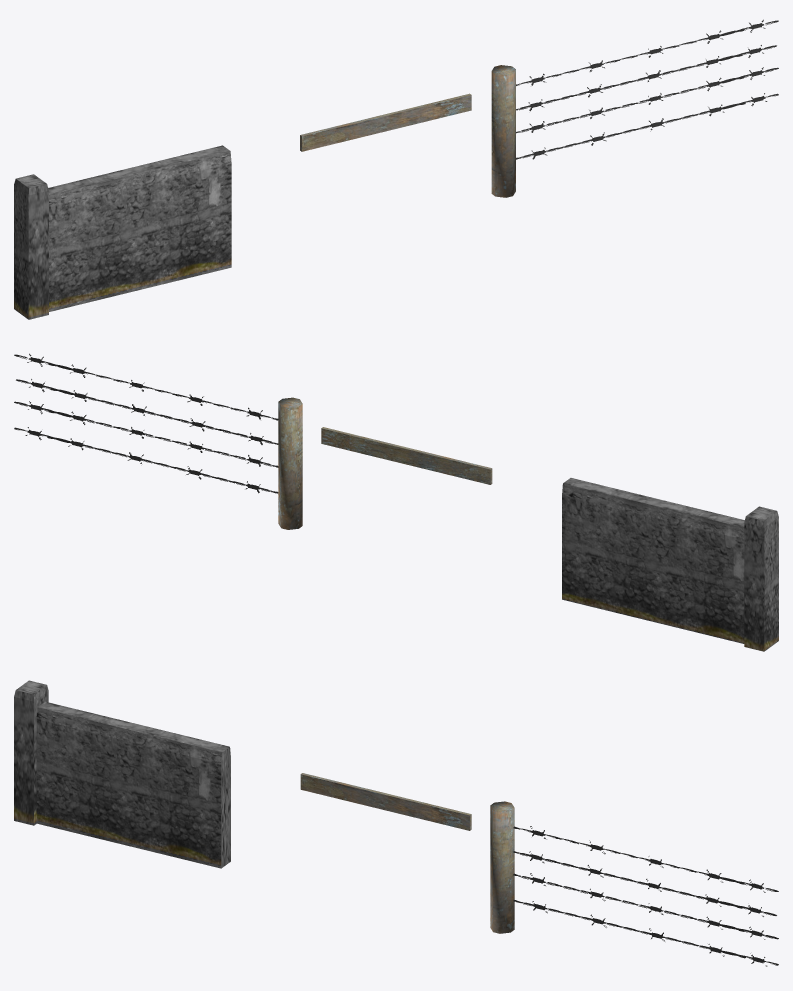
File: FarmProps.fbx
The picture shows the model from 3 angles, top to bottom: view 1: azimuth 30°, elevation 25°; view 2: azimuth 150°, elevation 25°; view 3: azimuth 330°, elevation 25°; orthographic projection.
Visible parts, largest first — view 1: wall, wallEnd, wire, post, fence; view 2: wall, wallEnd, wire, post, fence; view 3: wall, wire, wallEnd, post, fence.
Boxes of the visible parts, <box> form: wall: <box>48,145,231,311</box>; wallEnd: <box>14,174,48,319</box>; wire: <box>516,19,778,159</box>; post: <box>491,65,515,197</box>; fence: <box>300,93,471,151</box>; wall: <box>562,478,744,643</box>; wallEnd: <box>744,506,778,651</box>; wire: <box>14,353,278,493</box>; post: <box>278,397,302,529</box>; fence: <box>321,427,492,484</box>; wall: <box>36,701,230,868</box>; wire: <box>513,826,778,966</box>; wallEnd: <box>14,680,48,825</box>; post: <box>490,801,514,933</box>; fence: <box>300,773,471,830</box>.
Size of the model in its own units: 893 by 147 by 30.16.
